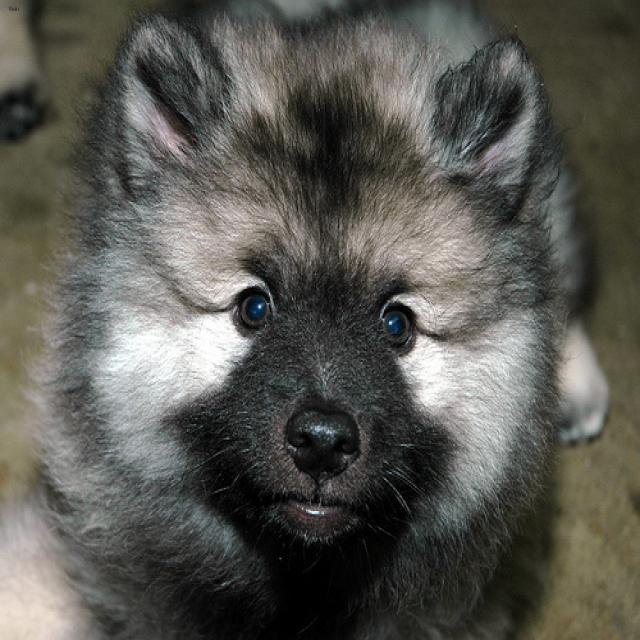dog-keeshond: (1, 2, 616, 637)
